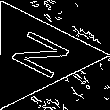N_SE: (0, 25, 73, 85)
